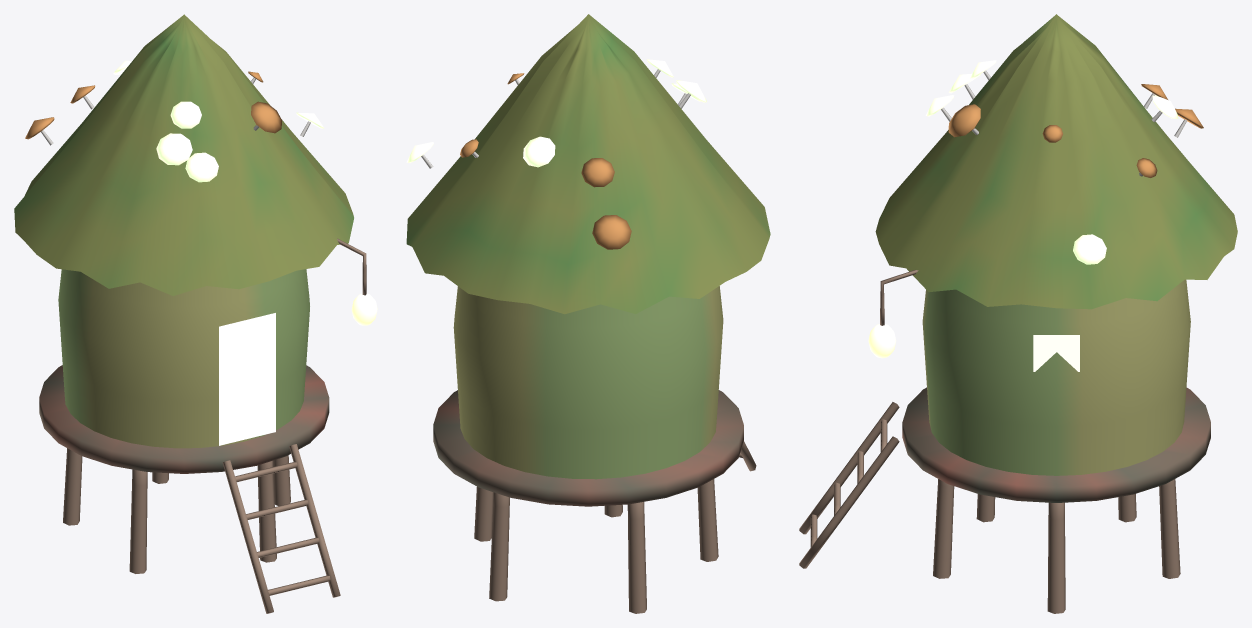
File: stilt_hut_small.glb
The picture shows the model from 3 angles, left to right: view 1: azimuth 30°, elevation 25°; view 2: azimuth 150°, elevation 25°; view 3: azimuth 270°, elevation 25°; orthographic projection. The views are drawn at different scales.
Parts seen in each view (by area): view 1: StiltHutSmall; view 2: StiltHutSmall; view 3: StiltHutSmall.
Part boxes in pixels (x1,y1,x2,y2): StiltHutSmall: (14, 14, 377, 613); StiltHutSmall: (406, 14, 770, 613); StiltHutSmall: (799, 14, 1237, 613).
Size of the model in its own units: 3.16 by 5.16 by 3.76.
